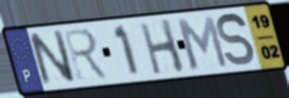1: (112, 24, 144, 78)
H: (137, 17, 187, 77)
M: (173, 14, 231, 72)
N: (25, 27, 79, 88)
R: (60, 26, 112, 82)
S: (216, 11, 257, 68)
